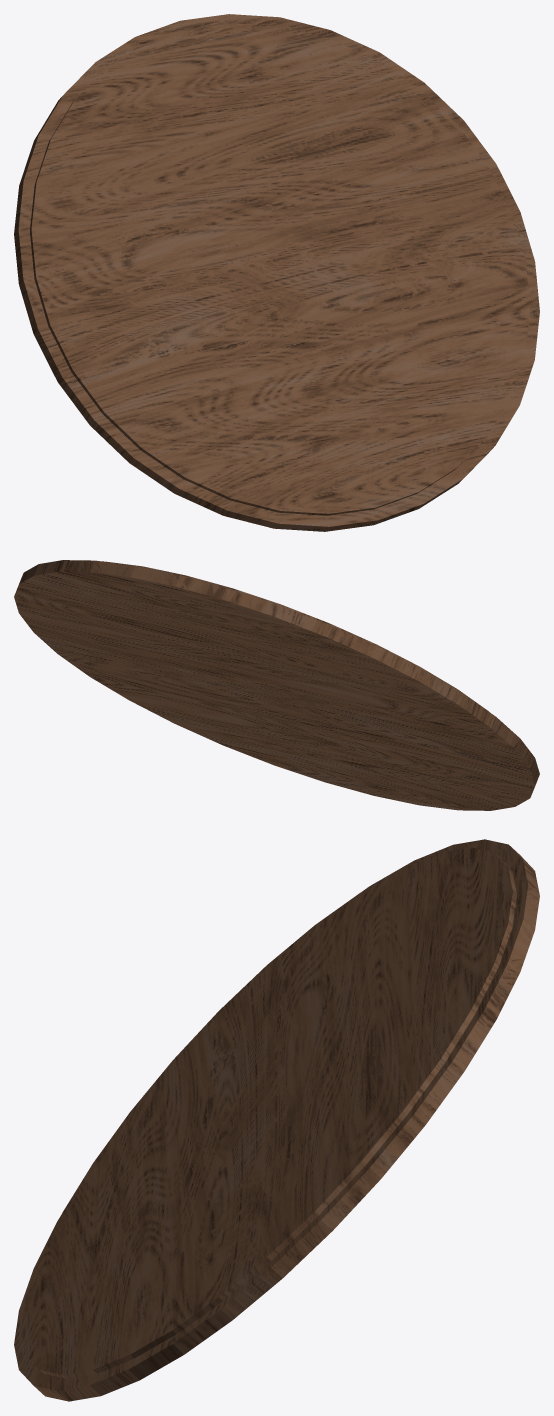
Rendered from plate.fbx.
3 views of the same model, one above another, from view 1: azimuth 30°, elevation 25°; view 2: azimuth 150°, elevation 25°; view 3: azimuth 270°, elevation 25° (orthographic). The views are drawn at different scales.
Parts seen in each view (by area): view 1: Circle; view 2: Circle; view 3: Circle.
Boxes of the visible parts, x1,y1,x2,y2 form: Circle: [14, 14, 539, 531]; Circle: [14, 560, 539, 810]; Circle: [14, 839, 539, 1401].
Size of the model in its own units: 105 by 75.17 by 76.22.
